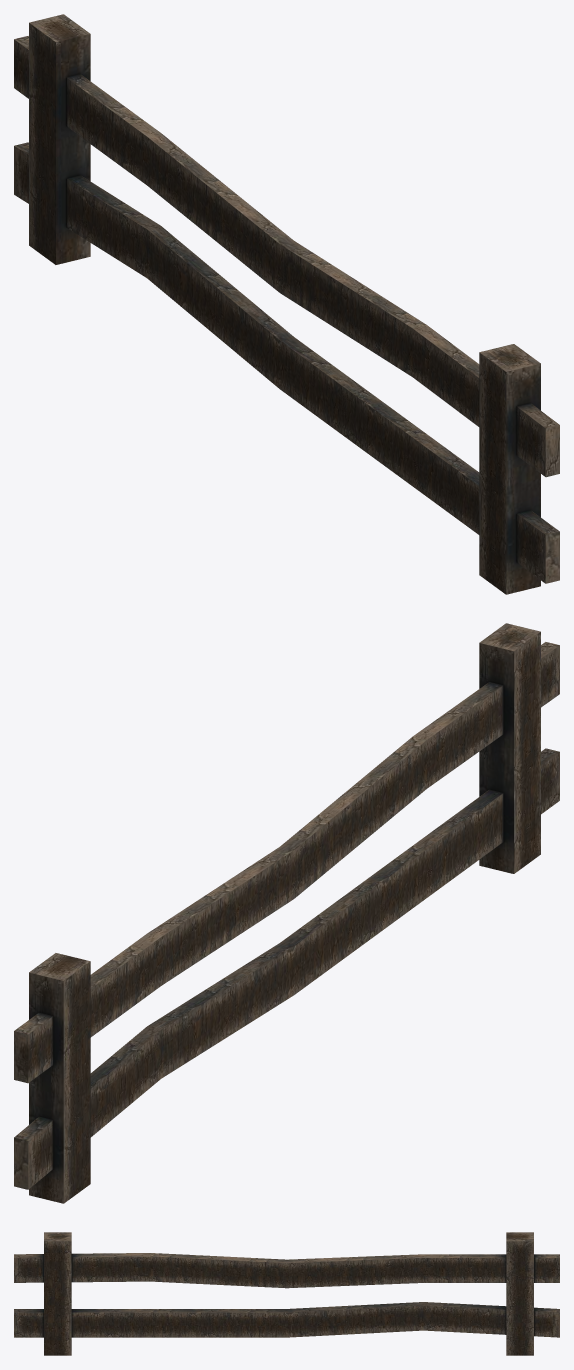
File: Fence.fbx
The picture shows the model from 3 angles, top to bottom: view 1: azimuth 30°, elevation 25°; view 2: azimuth 150°, elevation 25°; view 3: azimuth 270°, elevation 25°; orthographic projection. The views are drawn at different scales.
Visible parts, largest first — view 1: polymsh; view 2: polymsh; view 3: polymsh.
Boxes of the visible parts, <box> form: polymsh: <box>14,14,559,594</box>; polymsh: <box>14,623,559,1203</box>; polymsh: <box>14,1232,559,1355</box>.
Size of the model in its own units: 0.6839 by 4.18 by 18.09.
